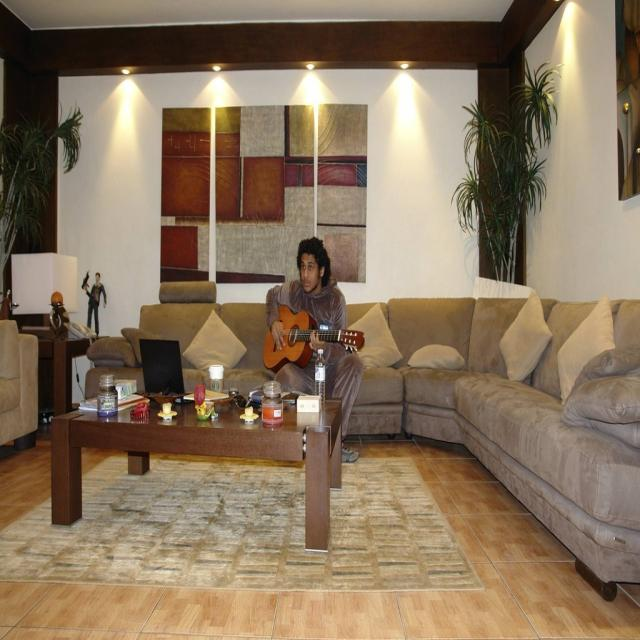guitar: (262, 304, 366, 372)
